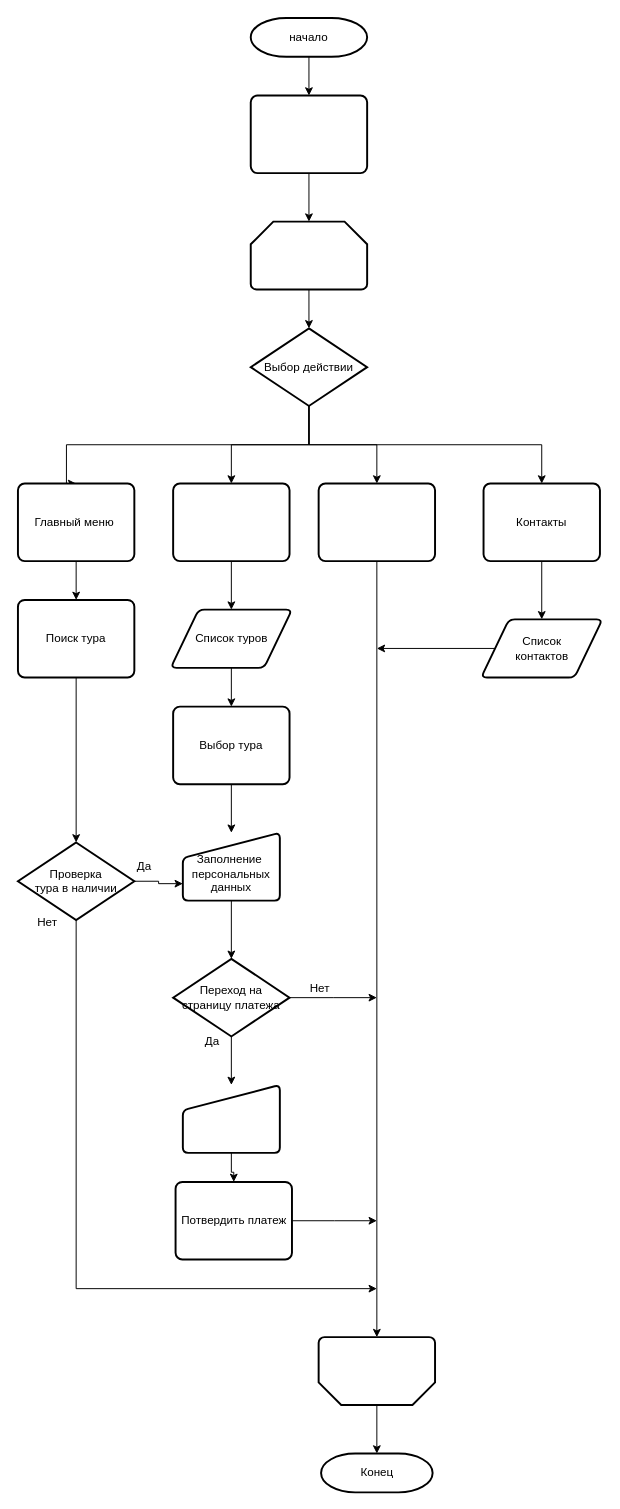
The diagram is 620 pixels wide and 1509 high, and some of its shapes have lost their labels. The shapes that lost their labels are listed below. From the top down, each one's centre as x and y in pixels, then its label:
At (x=308, y=134): "Вход в сайт".
At (x=308, y=255): "Главный рабочий цикл Пока не выбрана операция.".
At (x=231, y=522): "Туры".
At (x=376, y=522): "О нас".
At (x=230, y=1118): "Заполнение платежных данных".
At (x=376, y=1371): "Главный рабочий цикл".
